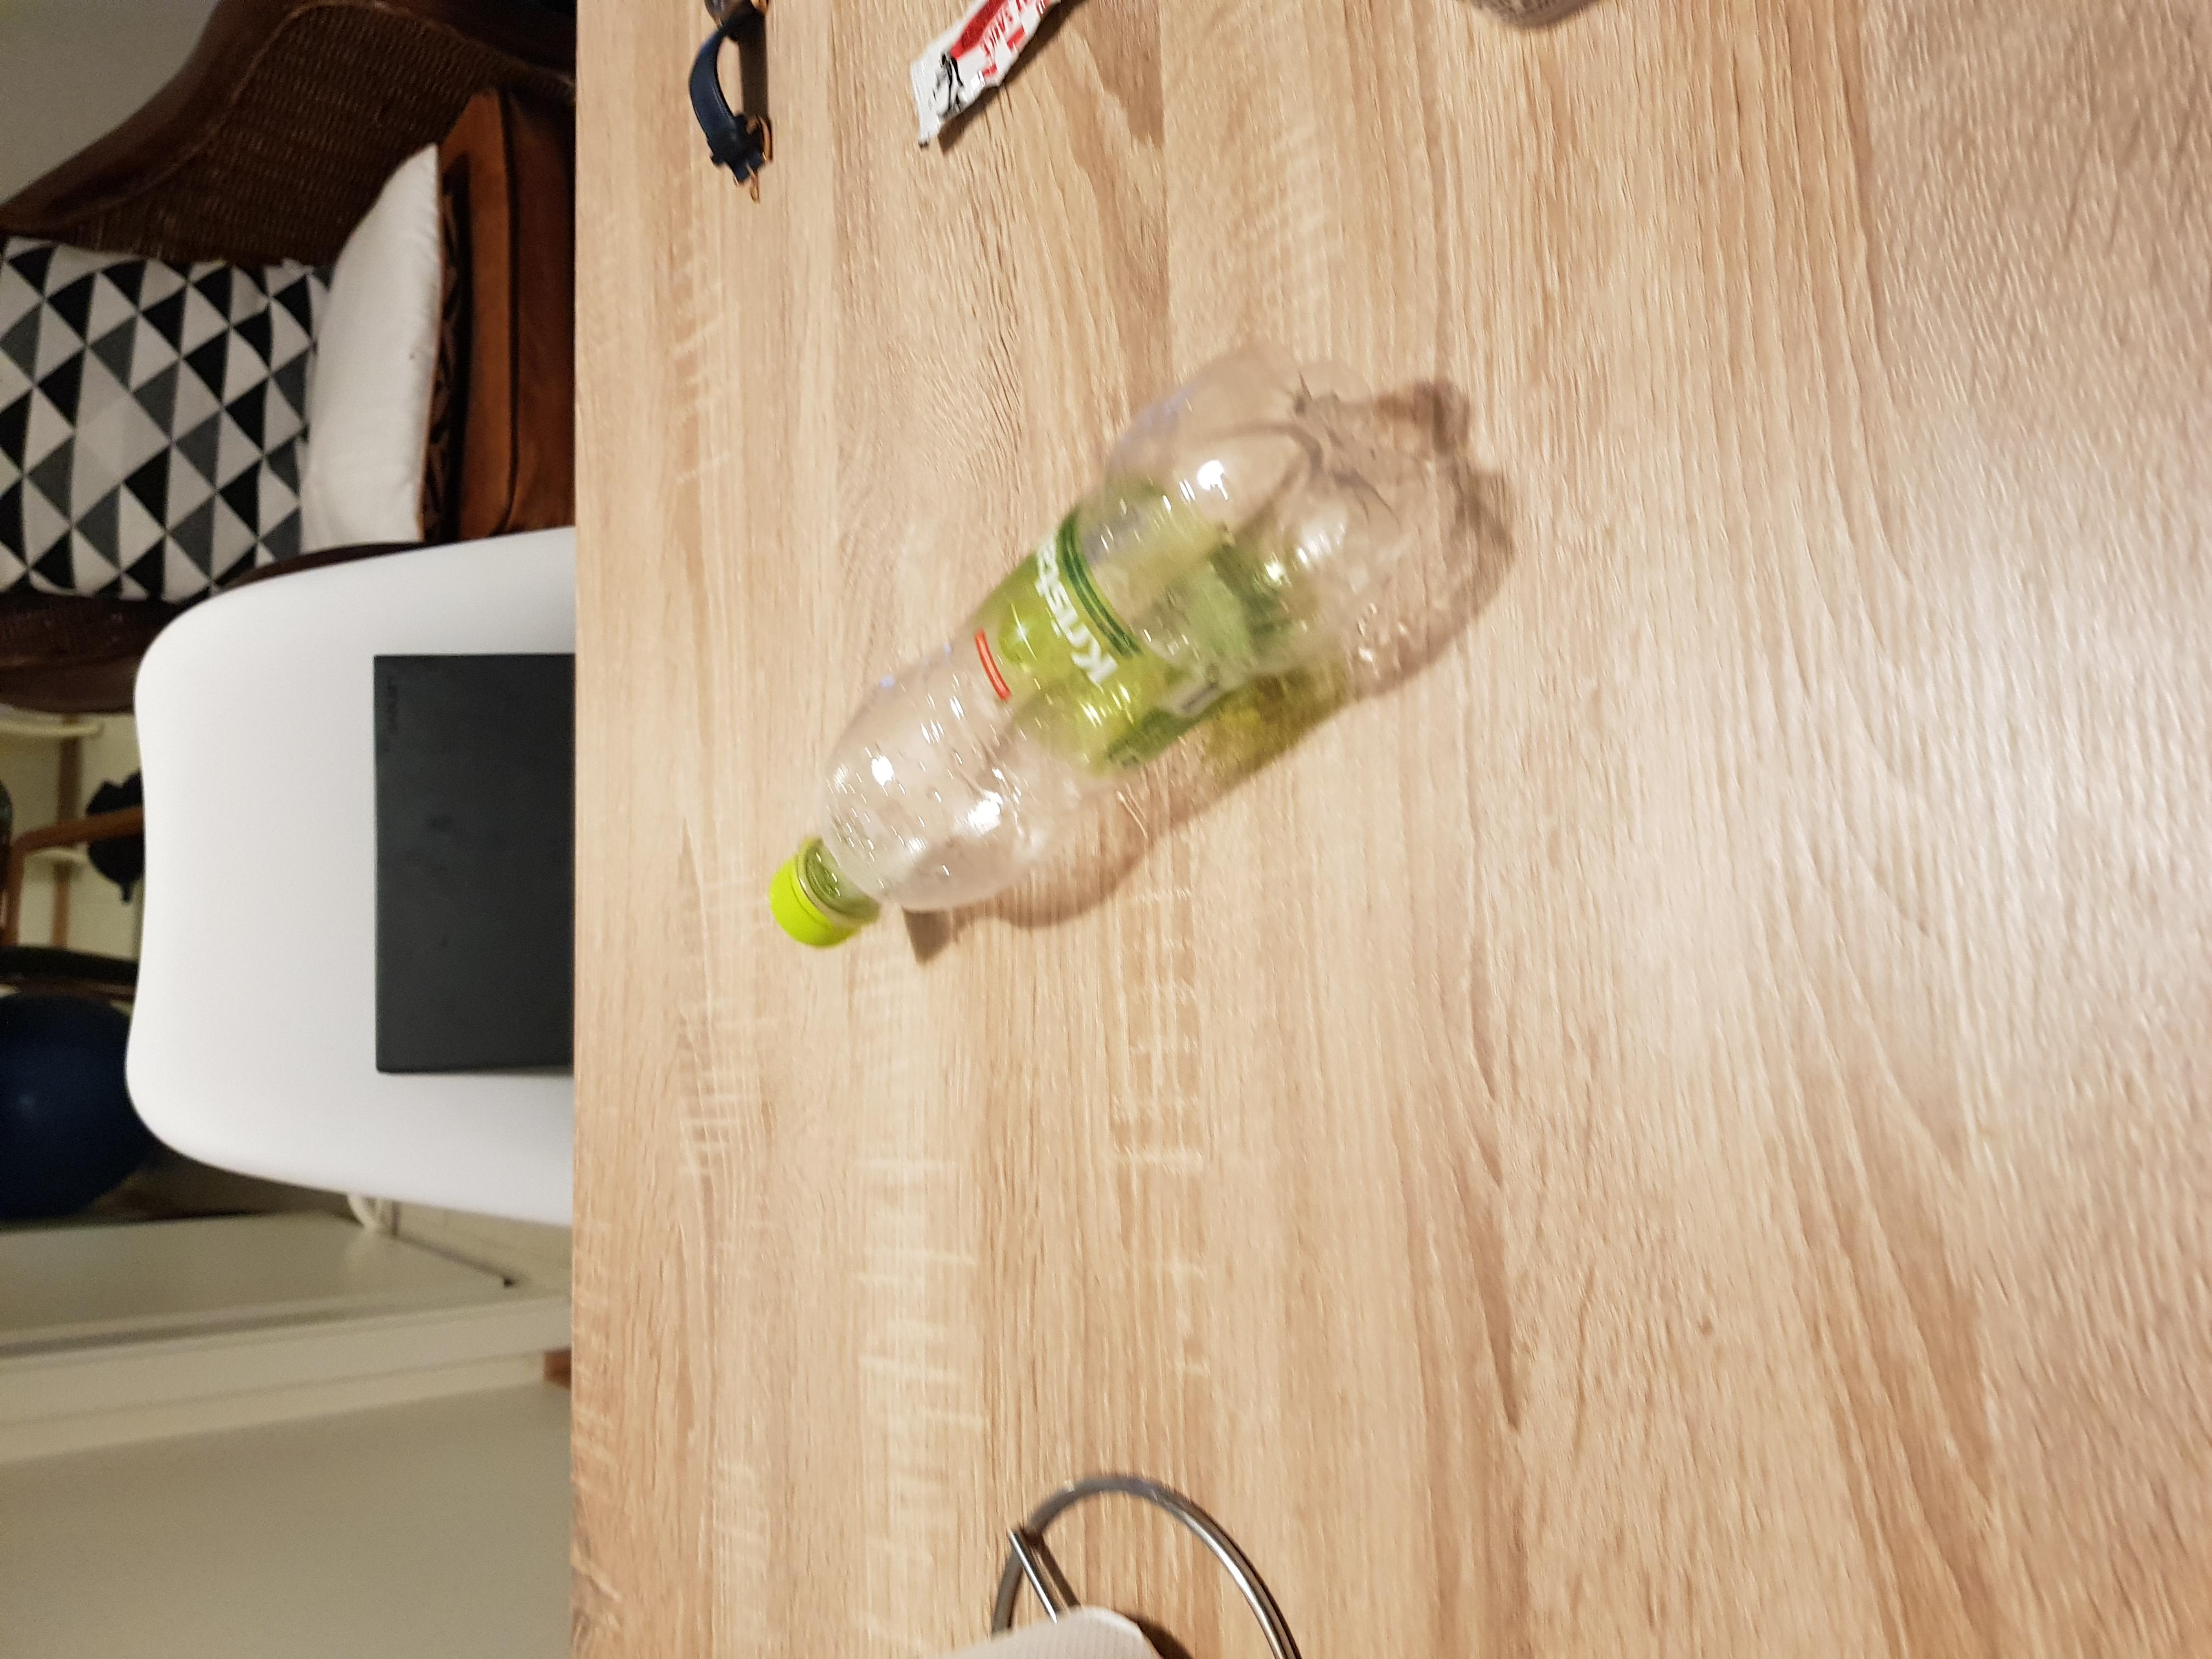Bottle: (763, 335, 1439, 969)
